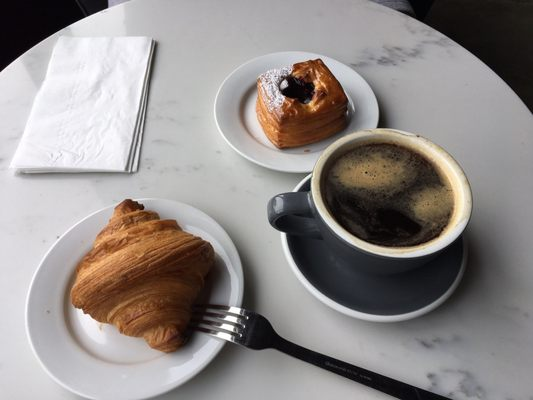pizza: (267, 128, 474, 276)
sandwich: (185, 303, 460, 400)
